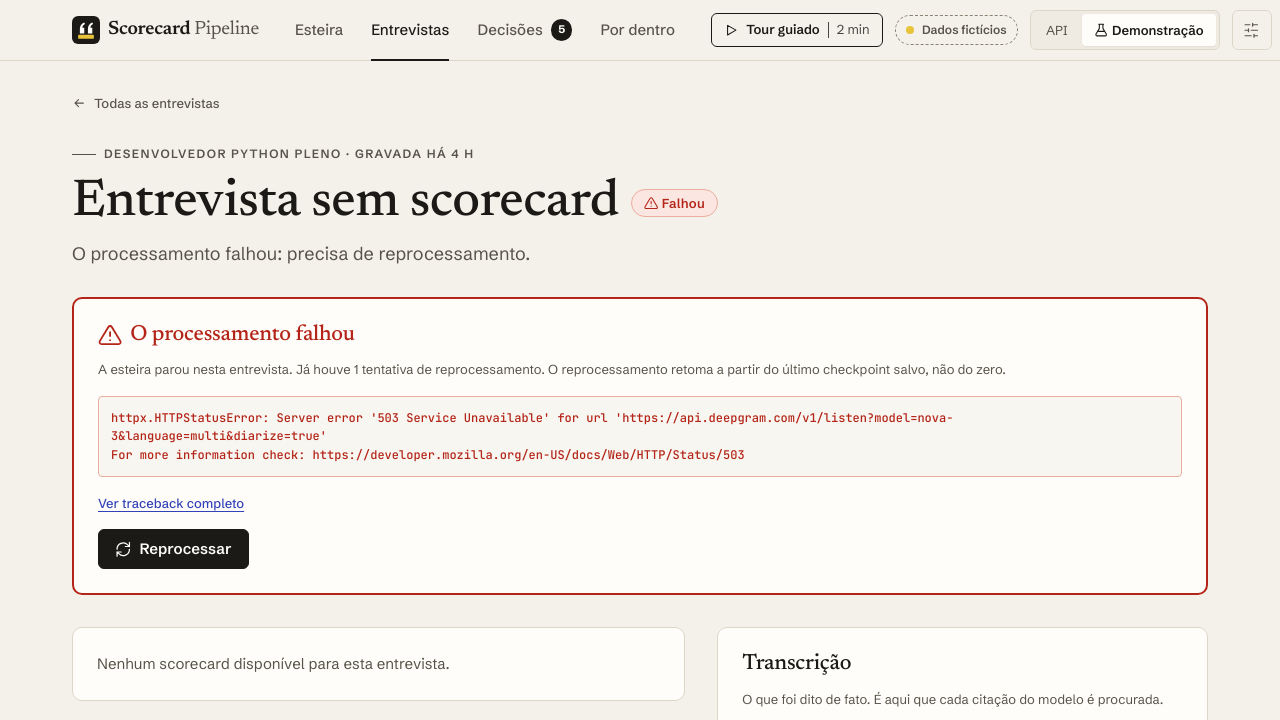
Test: demo mode isolation › reprocesses a failed interview offline, bumping the retry count
This screenshot has width=1280, height=720.
Expected: the heading "O processamento falhou" is shown, x1=98 y1=323 x2=355 y2=347
Click the button "Reprocessar" at (173, 550), box x1=98 y1=530 x2=248 y2=570
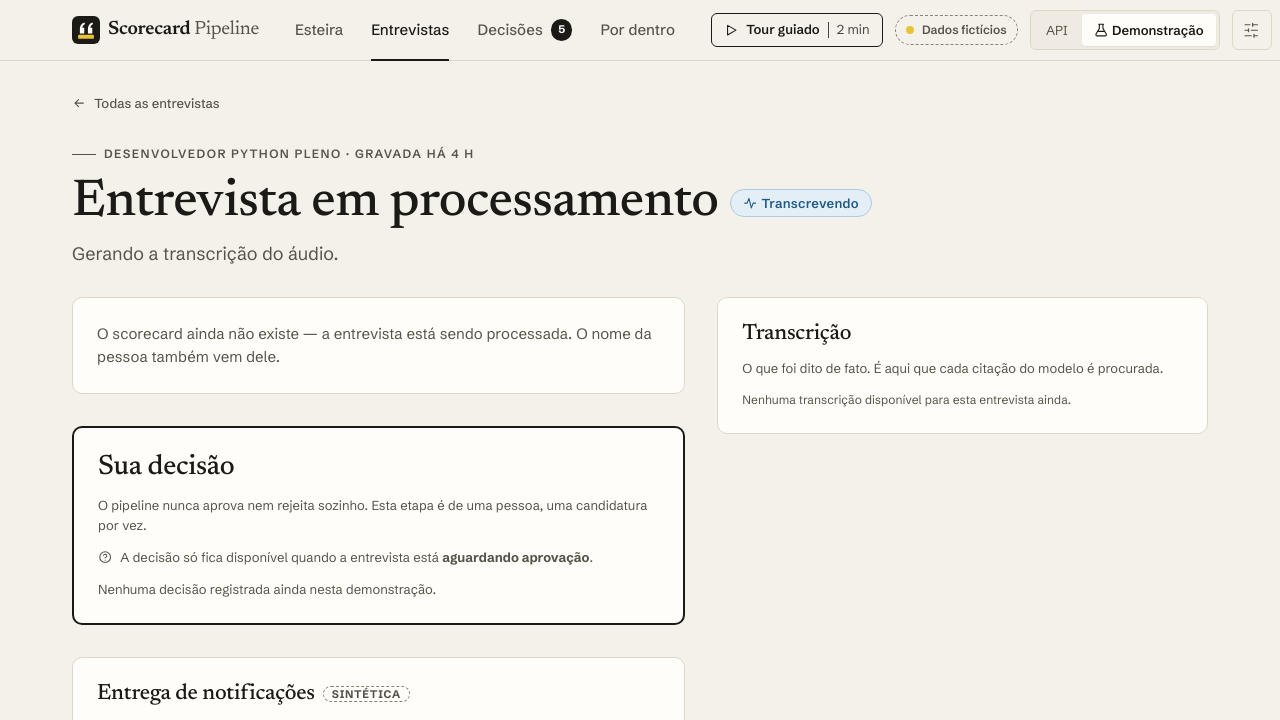
Expected: the text "Transcrevendo" is shown, x1=762 y1=193 x2=859 y2=213
